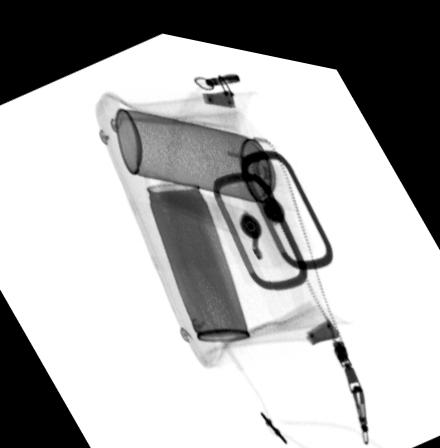Sprayer: (111, 102, 309, 200)
